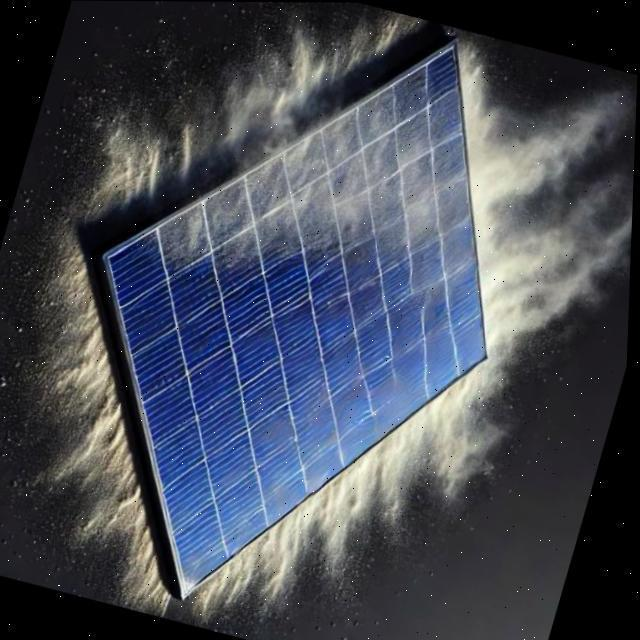Anomaly Solar Panel: (22, 45, 623, 593)
Surface Contaminant: (126, 62, 479, 307)
